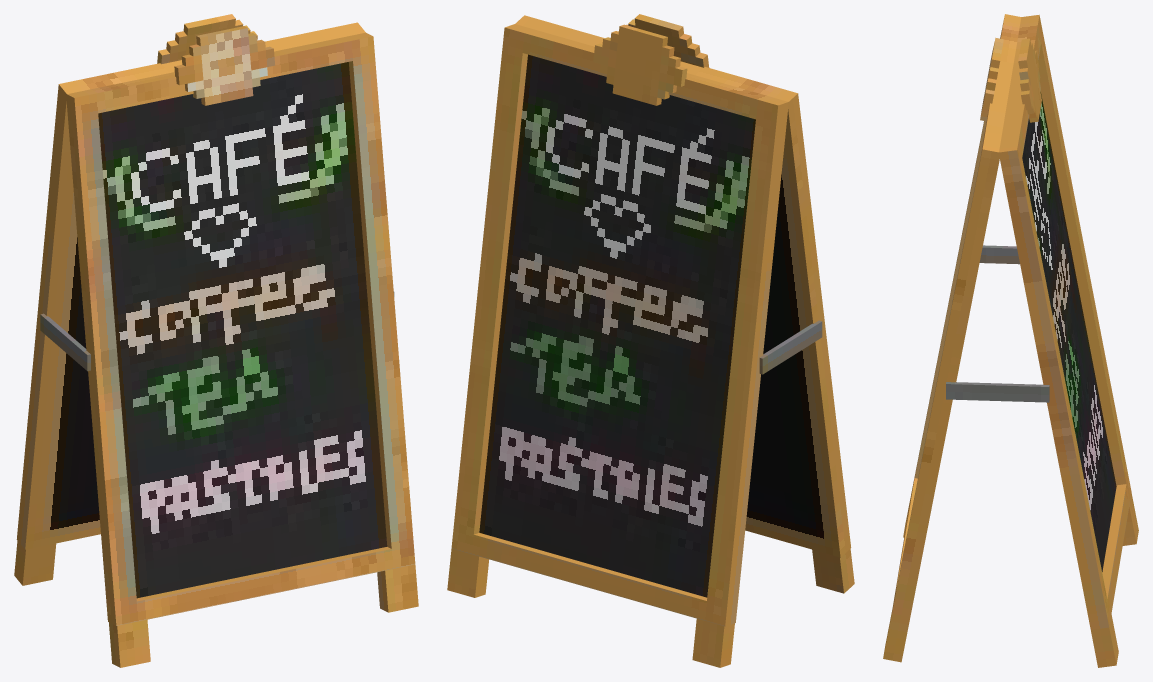
File: in_chalkboard.glb
3 renders of one model, left to right at view 1: azimuth 30°, elevation 25°; view 2: azimuth 150°, elevation 25°; view 3: azimuth 270°, elevation 25°, orthographic. The views are drawn at different scales.
Visible parts, largest first — view 1: Object_5; view 2: Object_5; view 3: Object_5.
Boxes of the visible parts, <box> form: Object_5: <box>14,14,418,667</box>; Object_5: <box>447,14,854,667</box>; Object_5: <box>883,14,1138,667</box>.
Bounding box in the file's own units: 0.4996 × 0.9 × 0.3802.
1 material, 1 textured.
